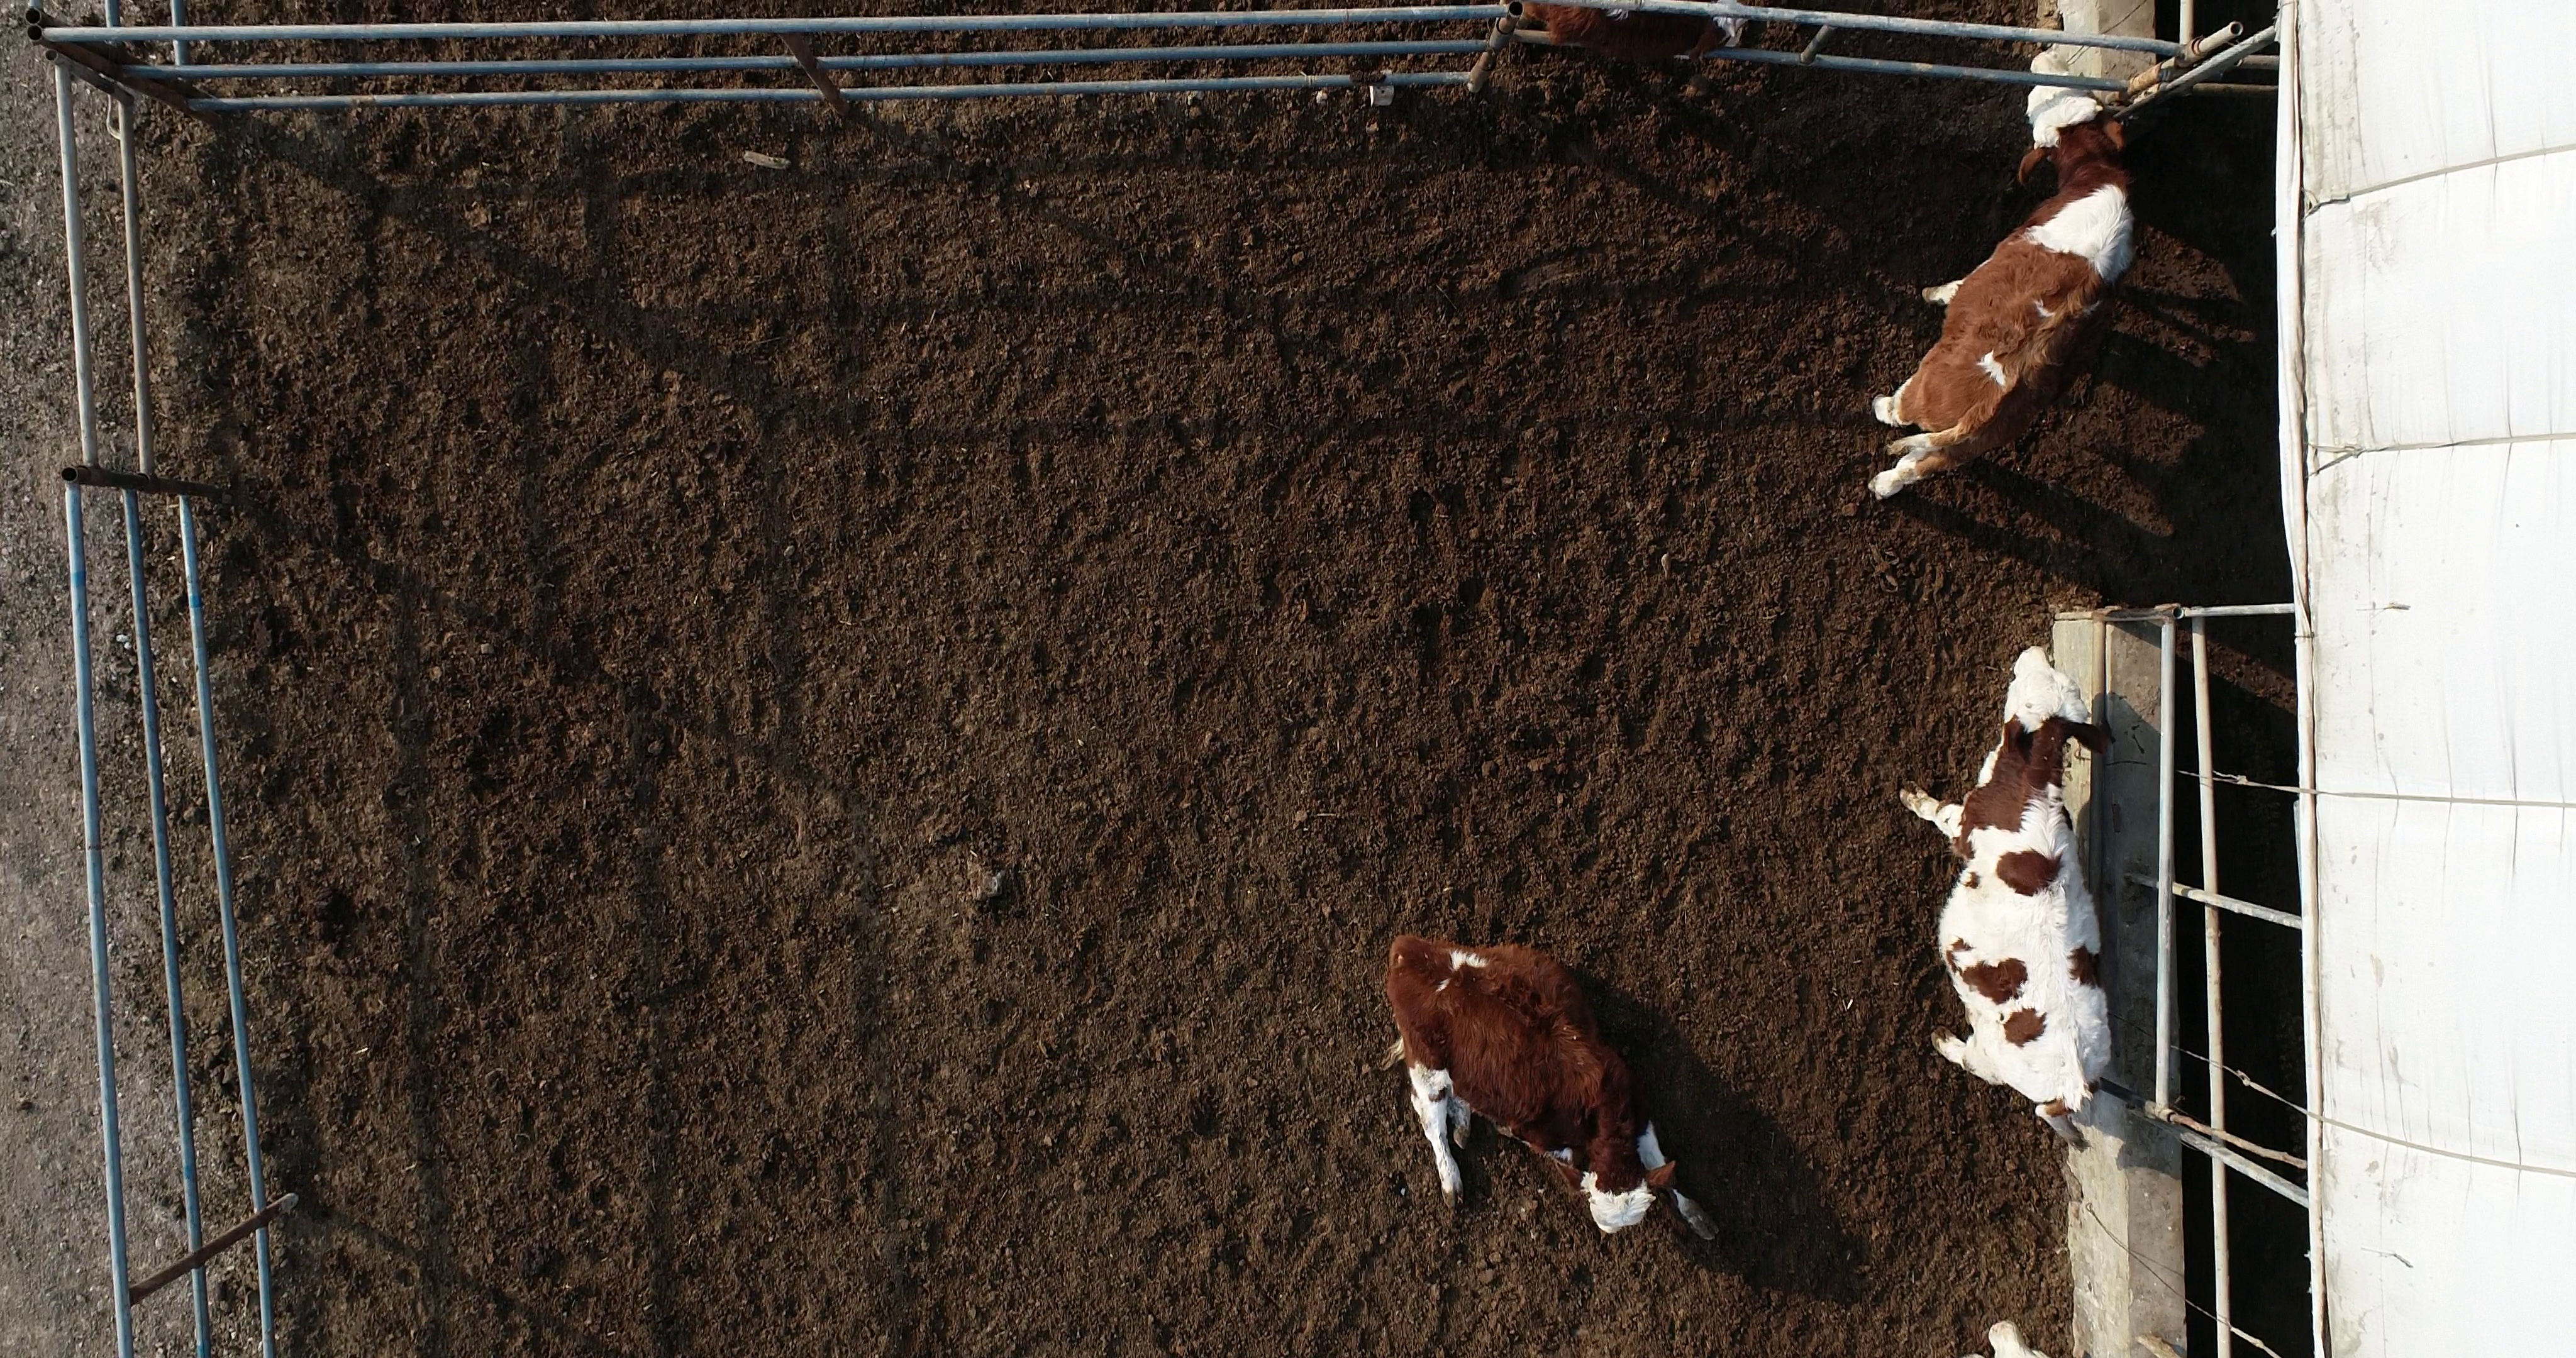cattle: (1860, 51, 2148, 506), (1375, 930, 1726, 1251), (1896, 641, 2123, 1111)
